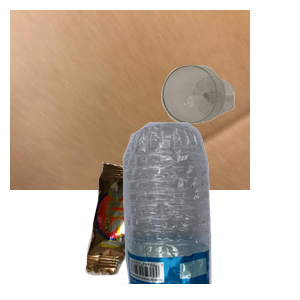cardboard: (10, 10, 250, 190)
glass: (159, 63, 300, 179)
plastic: (111, 120, 300, 300)
trash: (83, 160, 233, 300)
